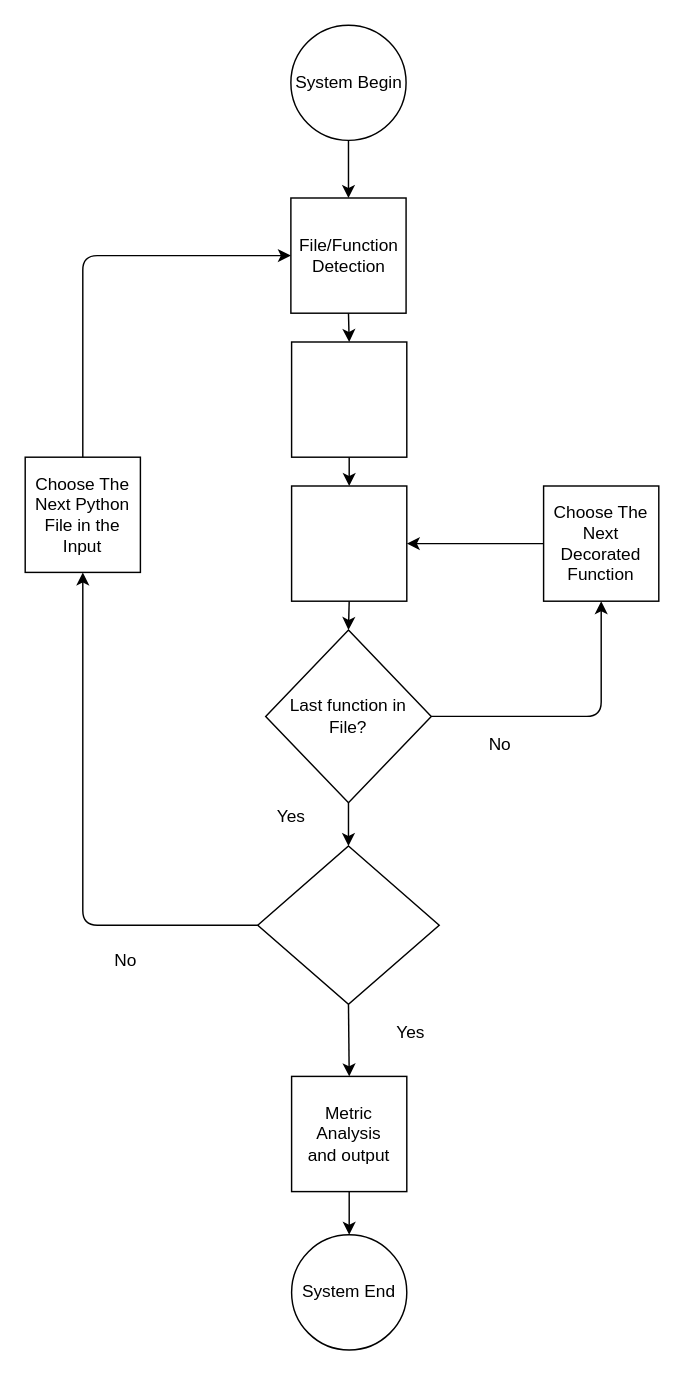
Some shapes in this 684 by 1375 pixel diagram are drawn without their labels. The shapes that lost their labels are listed below. From the top down, each one's centre as x and y in pixels, then its label:
the point at 348,399: Decorator Application for Current File
the point at 348,543: Pytest With Reloaded Modules and Metric Detection
the point at 347,924: Last File in the Input?
